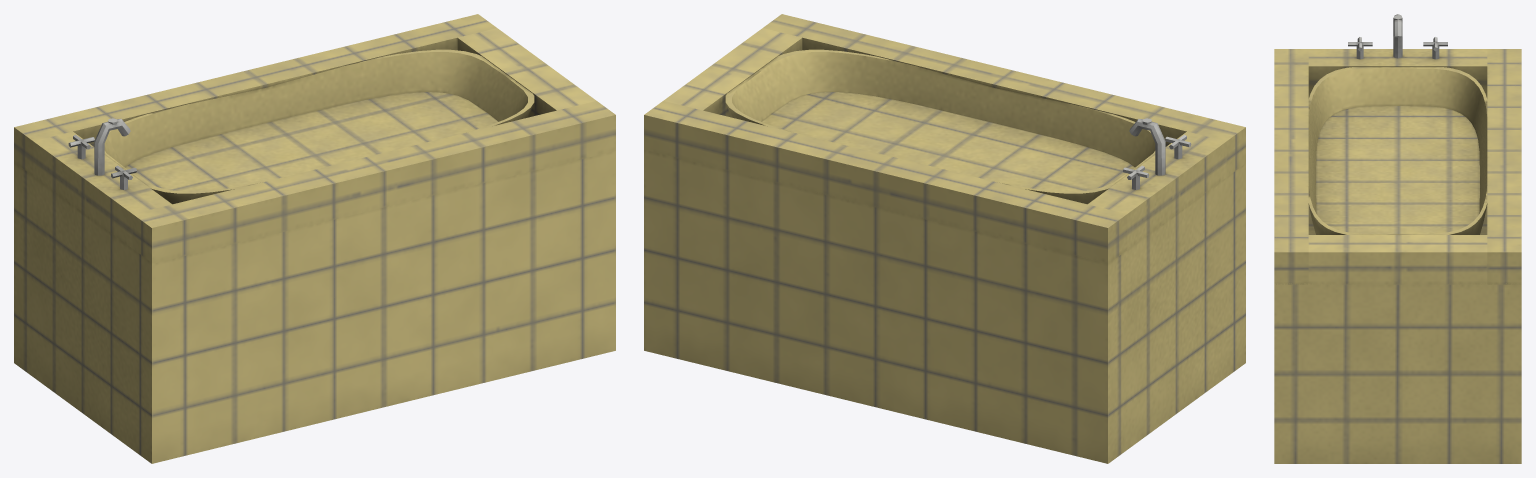
File: H_Bathtub_Butter.fbx
3 renders of one model, left to right at view 1: azimuth 30°, elevation 25°; view 2: azimuth 150°, elevation 25°; view 3: azimuth 270°, elevation 25°, orthographic. The views are drawn at different scales.
Parts seen in each view (by area): view 1: H_Bathtub_Butter; view 2: H_Bathtub_Butter; view 3: H_Bathtub_Butter.
Part boxes in pixels (x1,y1,x2,y2): H_Bathtub_Butter: (14,14,615,463); H_Bathtub_Butter: (644,14,1245,463); H_Bathtub_Butter: (1274,14,1521,463).
Bounding box in the file's own units: 700 × 412 × 360.
Materials: 1 (1 with a texture image).
